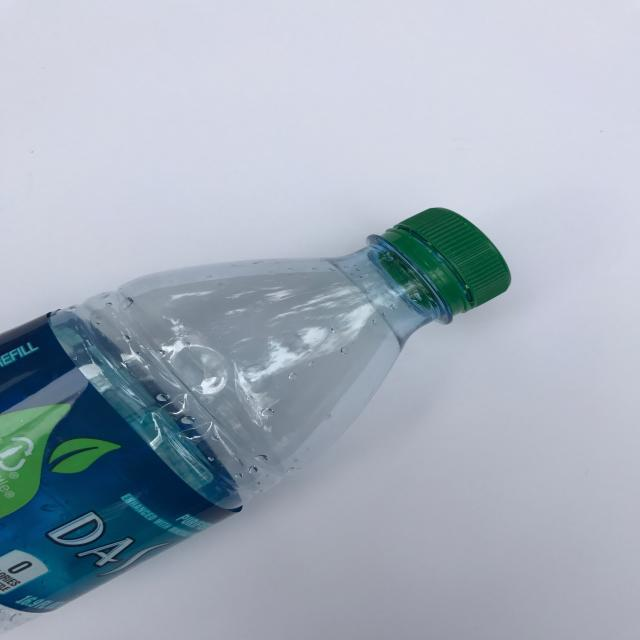plastic: (1, 206, 512, 634)
